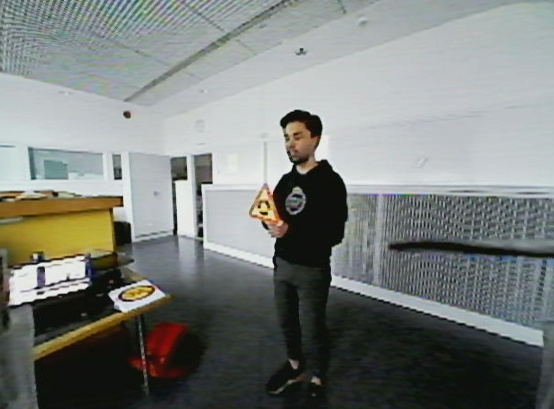roundabout_warning: (245, 181, 281, 226)
